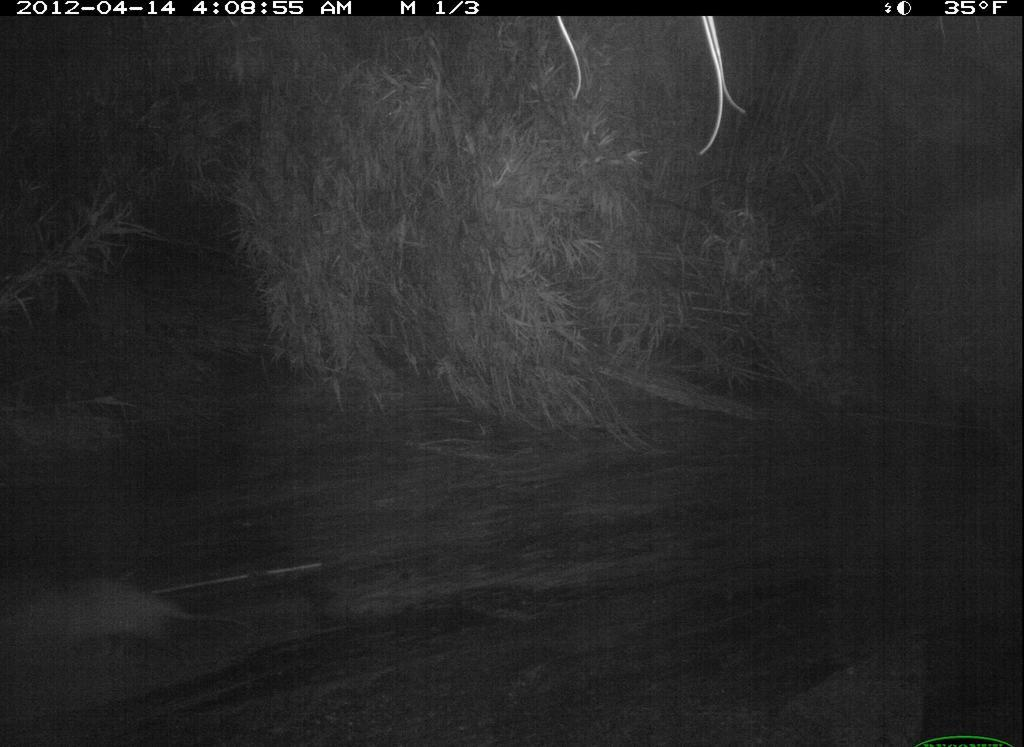opossum: (11, 562, 239, 674)
